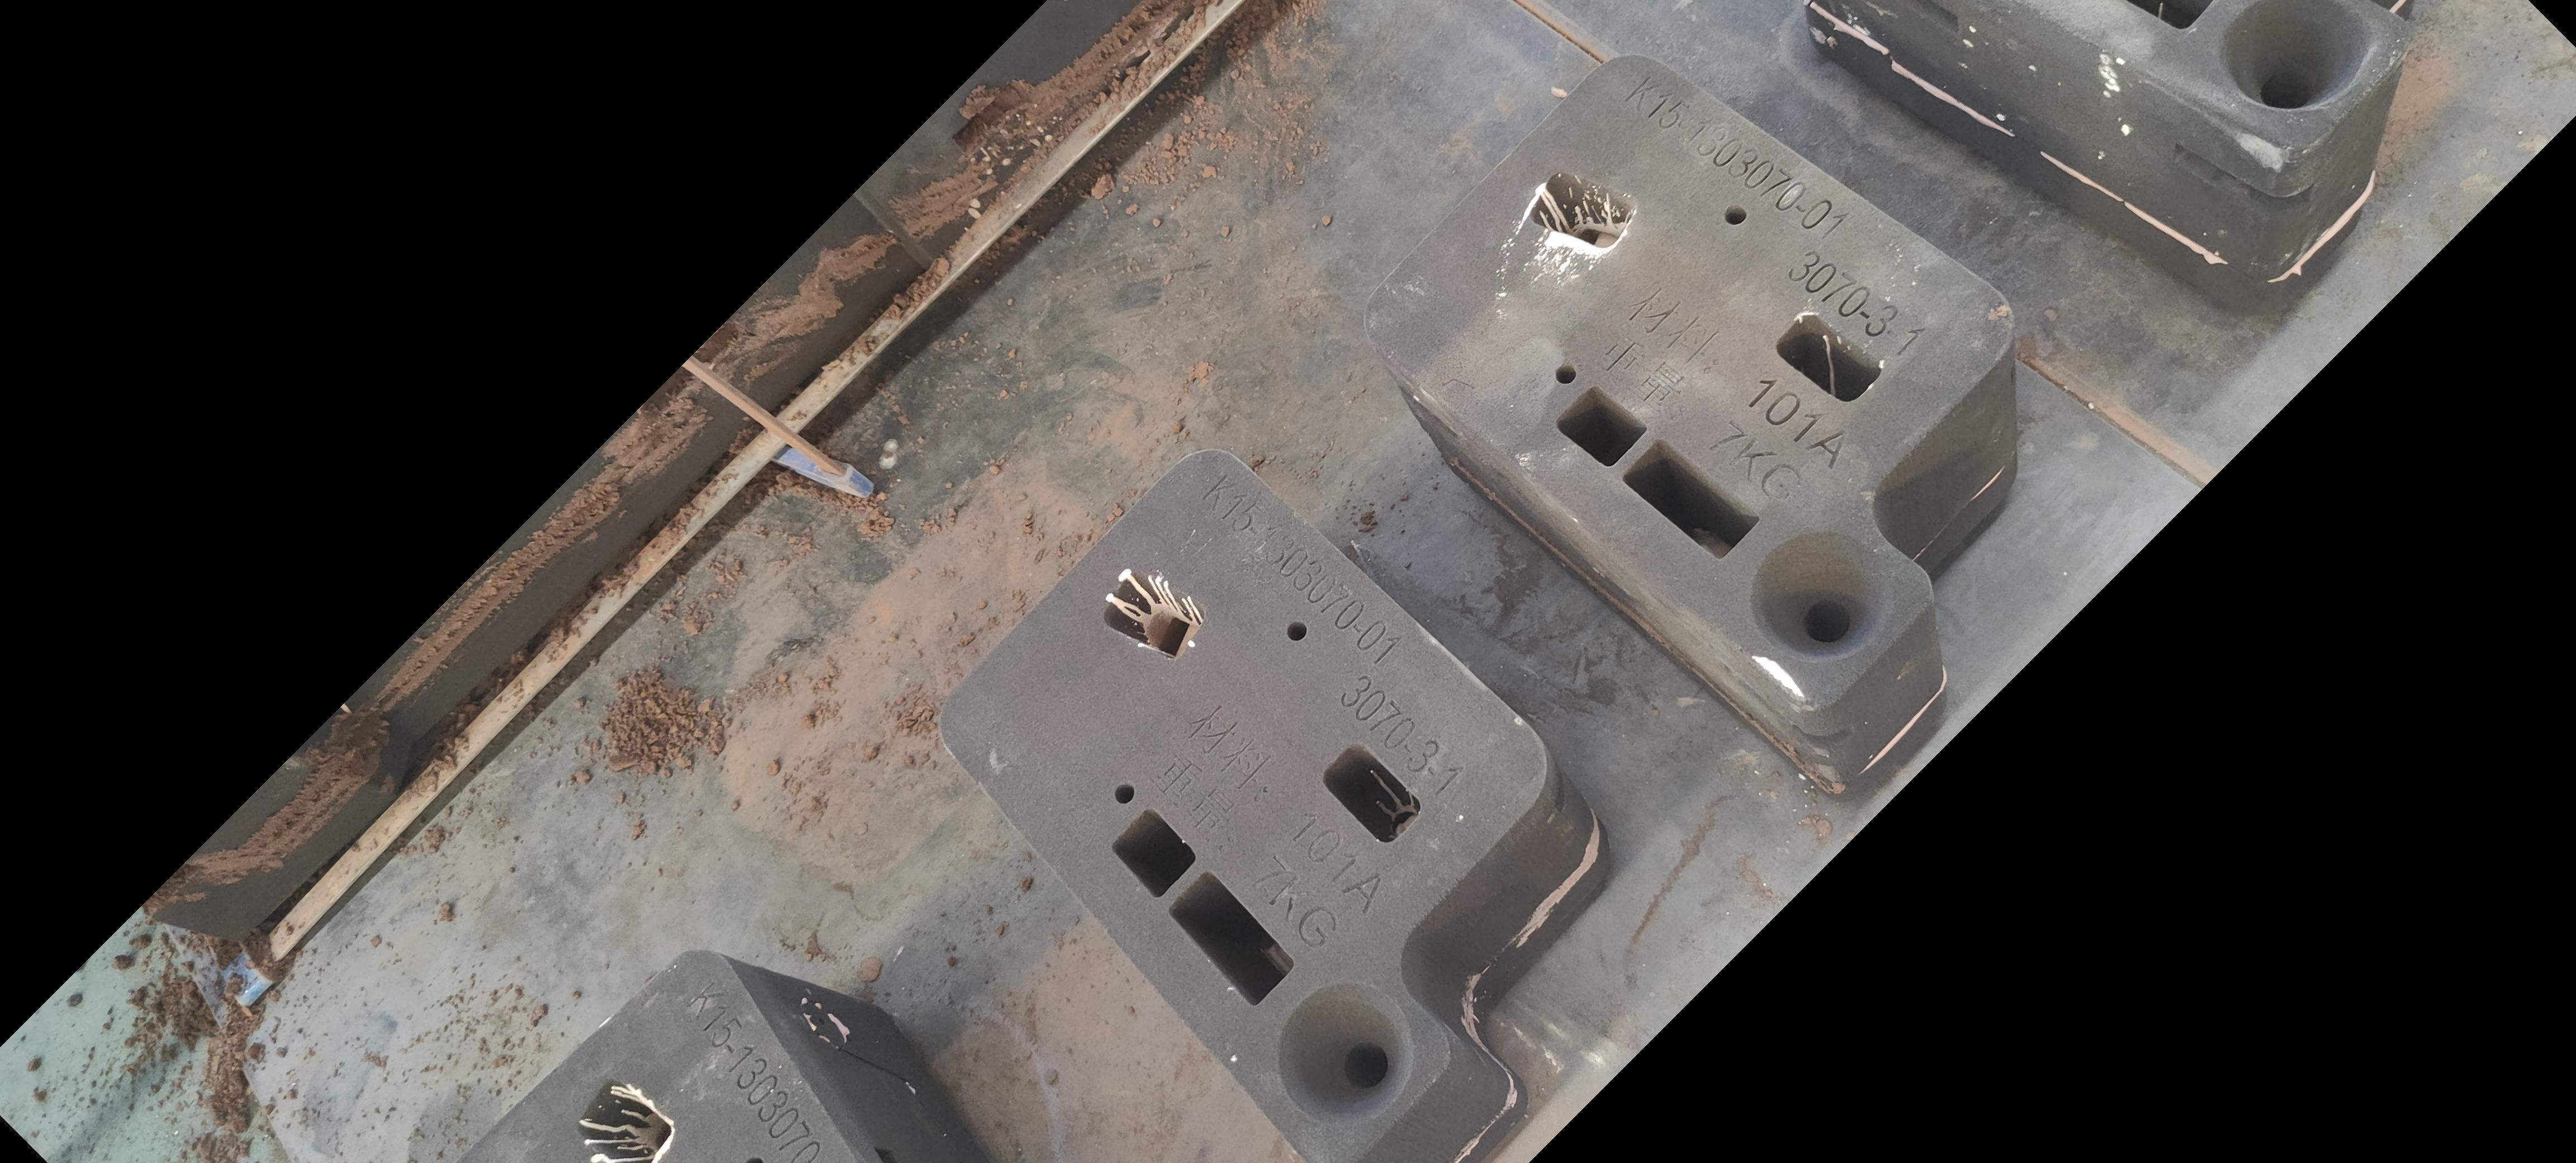pouring hole: (1275, 981, 1414, 1124), (1751, 532, 1891, 660), (2221, 3, 2376, 110)
